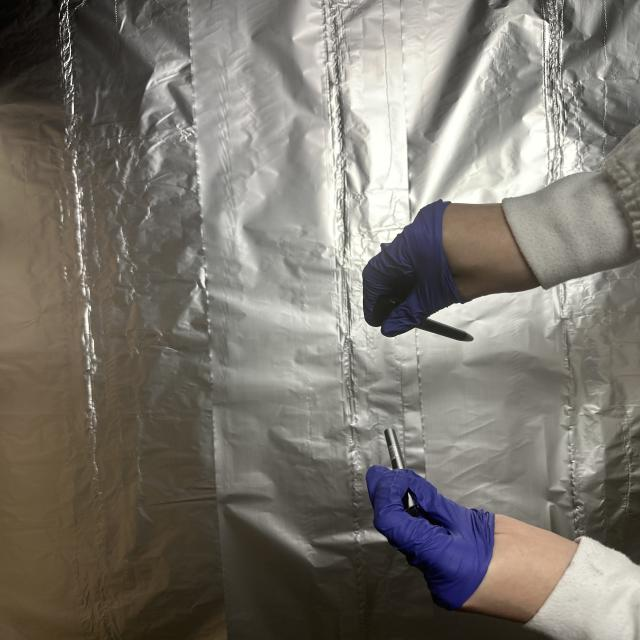glove_partial: (361, 462, 585, 627), (360, 197, 545, 339)
